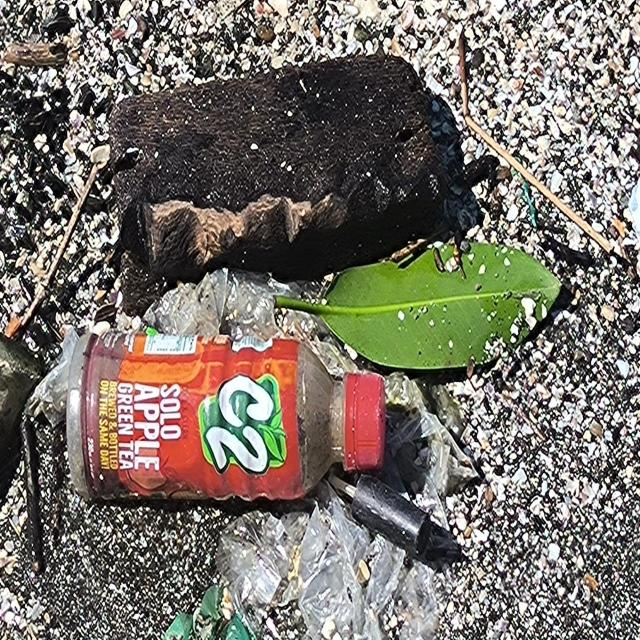plastic_waste: (66, 327, 388, 505)
wood_waste: (107, 52, 454, 277)
